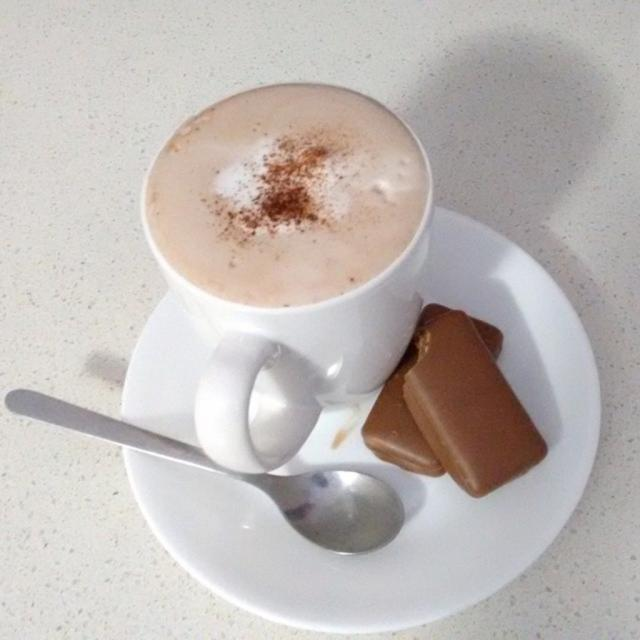Coffee: (145, 80, 456, 471)
